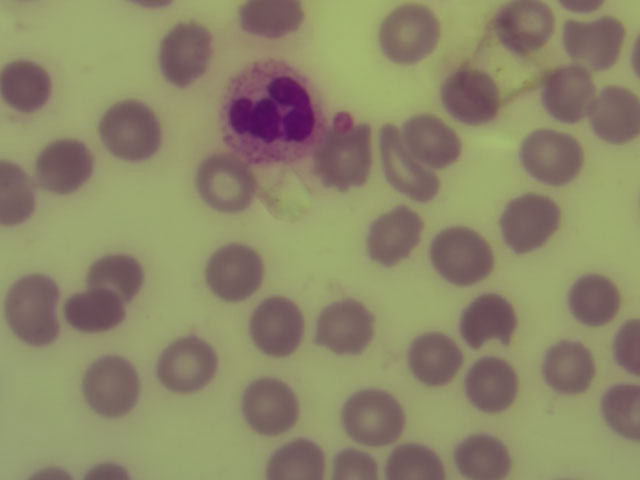Platelets: (334, 112, 354, 133)
RBC: (368, 123, 449, 203), (2, 270, 66, 342), (203, 241, 266, 304), (98, 100, 162, 159), (429, 226, 493, 285), (576, 86, 640, 145), (536, 63, 600, 122), (442, 69, 506, 128), (519, 128, 583, 187), (566, 12, 630, 71), (193, 155, 257, 214), (376, 5, 440, 64), (78, 356, 142, 415), (156, 23, 220, 82), (37, 135, 101, 194), (313, 298, 377, 357), (248, 298, 312, 357), (156, 335, 220, 394), (405, 110, 469, 169), (314, 130, 378, 189), (496, 193, 560, 252), (360, 206, 424, 265), (84, 249, 148, 308), (61, 281, 125, 340), (339, 386, 403, 445), (534, 338, 598, 397), (458, 357, 522, 416), (403, 329, 467, 388), (561, 273, 625, 332), (455, 287, 519, 346), (236, 375, 300, 434), (1, 55, 64, 114), (493, 1, 557, 59), (240, 1, 304, 59), (453, 427, 513, 480), (265, 437, 326, 480), (1, 161, 38, 227), (327, 447, 387, 480), (604, 385, 640, 438), (391, 446, 447, 480), (609, 322, 640, 374), (86, 461, 131, 480), (27, 469, 75, 480)
WBC: (222, 66, 325, 161)
